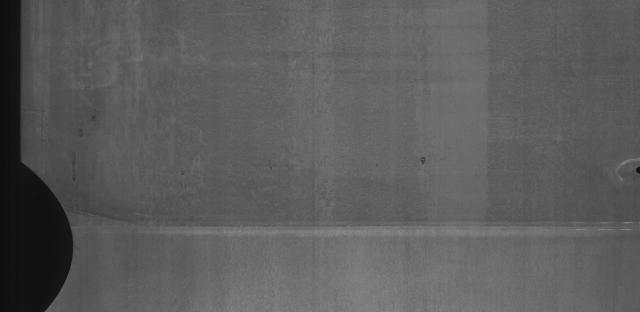punching_hole: (628, 158, 640, 181)
welding_line: (52, 206, 640, 237)
